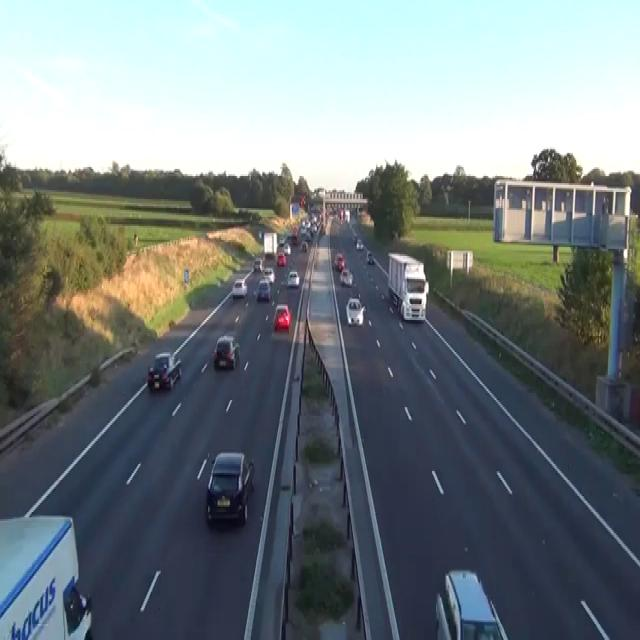Car: (435, 569, 509, 638), (206, 450, 254, 526), (147, 350, 182, 391), (212, 334, 240, 370), (147, 361, 169, 391), (345, 297, 366, 325), (273, 304, 291, 331), (255, 278, 271, 300), (232, 277, 247, 297), (340, 267, 353, 286), (286, 270, 299, 286), (263, 266, 275, 282), (334, 252, 344, 270), (276, 250, 286, 266), (252, 258, 263, 272), (366, 249, 374, 263), (283, 242, 291, 254), (355, 238, 363, 249), (301, 240, 307, 251), (352, 231, 357, 244), (305, 231, 312, 240), (279, 235, 285, 245), (391, 230, 398, 238), (357, 208, 363, 217), (258, 230, 262, 238)
Truck: (0, 514, 92, 638), (387, 250, 429, 322), (263, 231, 277, 258)
